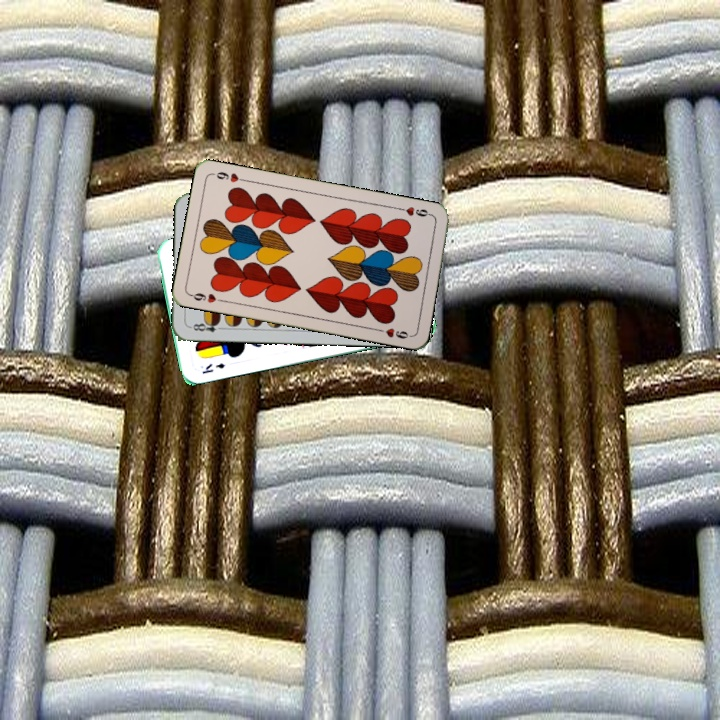E8: (186, 317, 227, 334)
EK: (198, 359, 227, 377)
H9: (395, 202, 435, 219), (186, 289, 227, 305)
